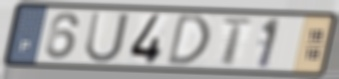1: (257, 17, 283, 71)
4: (127, 12, 164, 67)
6: (44, 11, 82, 61)
D: (164, 12, 213, 68)
T: (220, 16, 255, 67)
U: (82, 10, 132, 65)
